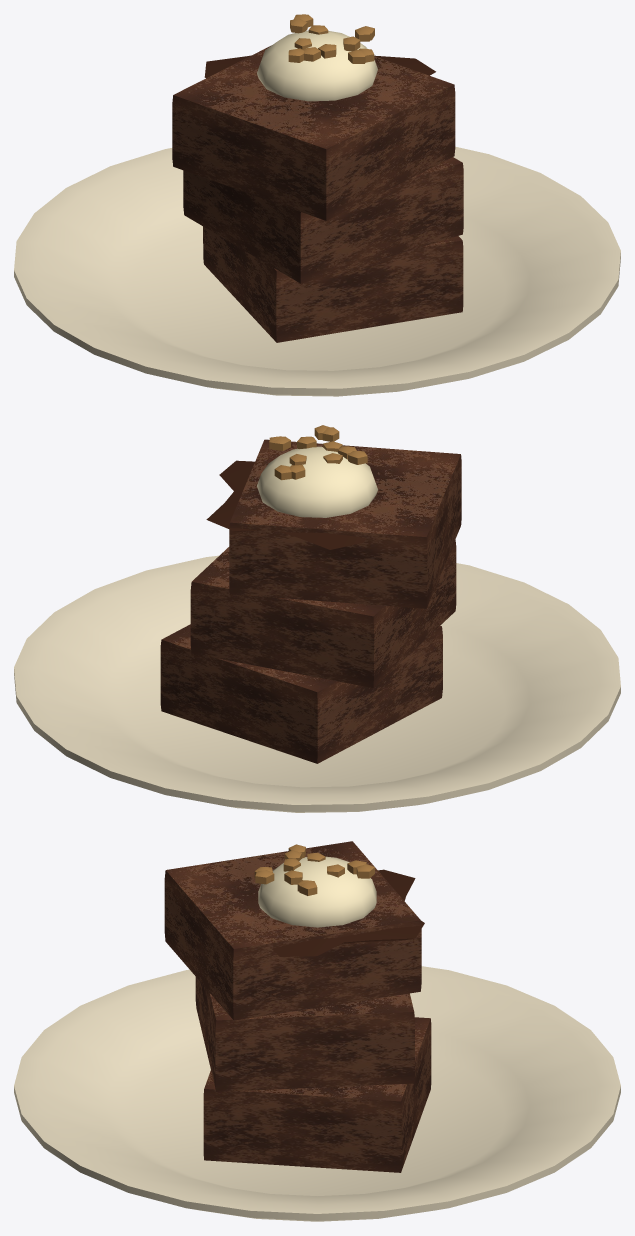
Rendered from dessert_brownie_stack.glb.
The picture shows the model from 3 angles, top to bottom: view 1: azimuth 30°, elevation 25°; view 2: azimuth 150°, elevation 25°; view 3: azimuth 270°, elevation 25°; orthographic projection.
Parts seen in each view (by area): view 1: dessert_brownie_stack; view 2: dessert_brownie_stack; view 3: dessert_brownie_stack.
Boxes of the visible parts, x1=… form: dessert_brownie_stack: x1=14, y1=14, x2=620, y2=396; dessert_brownie_stack: x1=14, y1=425, x2=620, y2=812; dessert_brownie_stack: x1=14, y1=841, x2=620, y2=1221.
Size of the model in its own units: 0.2 by 0.1015 by 0.2.
Materials: 5 (1 with a texture image).
